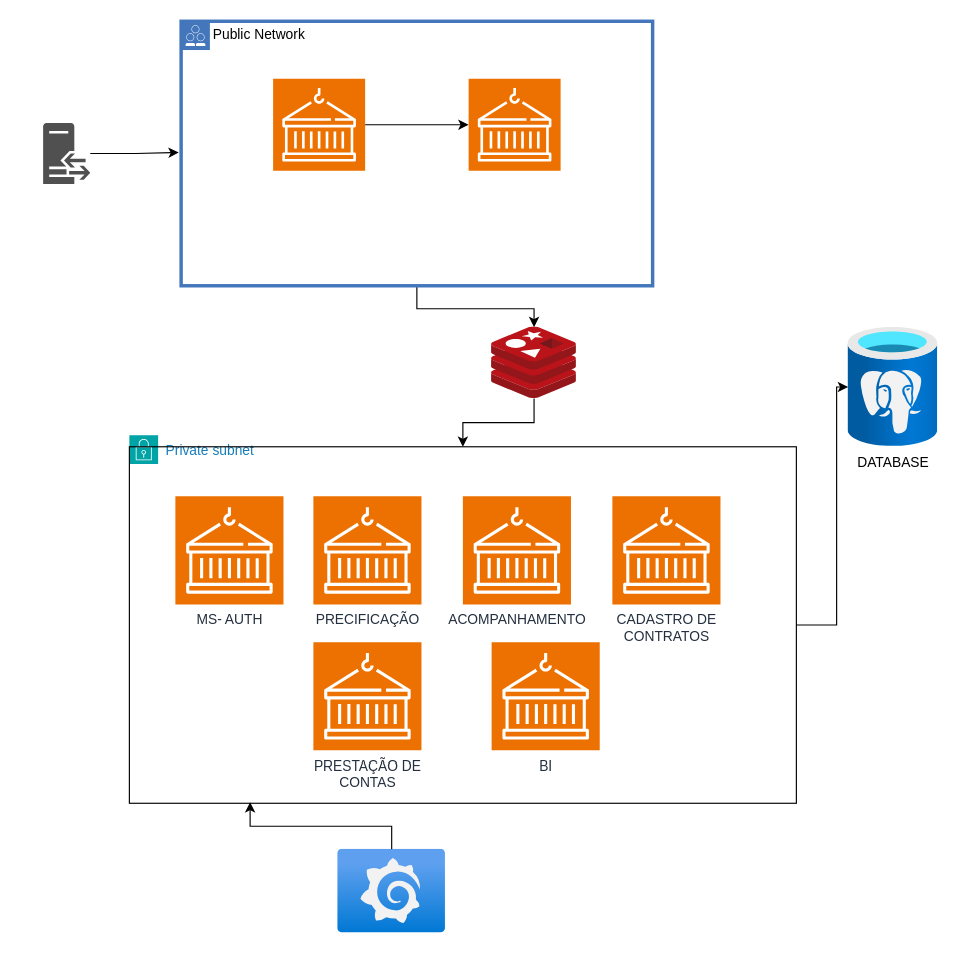
This 958x978 diagram has some shape labels left out. The centre of each missing label's shape, as x and y in pixels:
"Frontend-APP" goes at point 514,124.
"MONITORAMENTO" goes at point 391,890.
"PRoxy reverso" goes at point 66,152.
"redis cache" goes at point 533,362.
"XGINX" goes at point 318,124.
